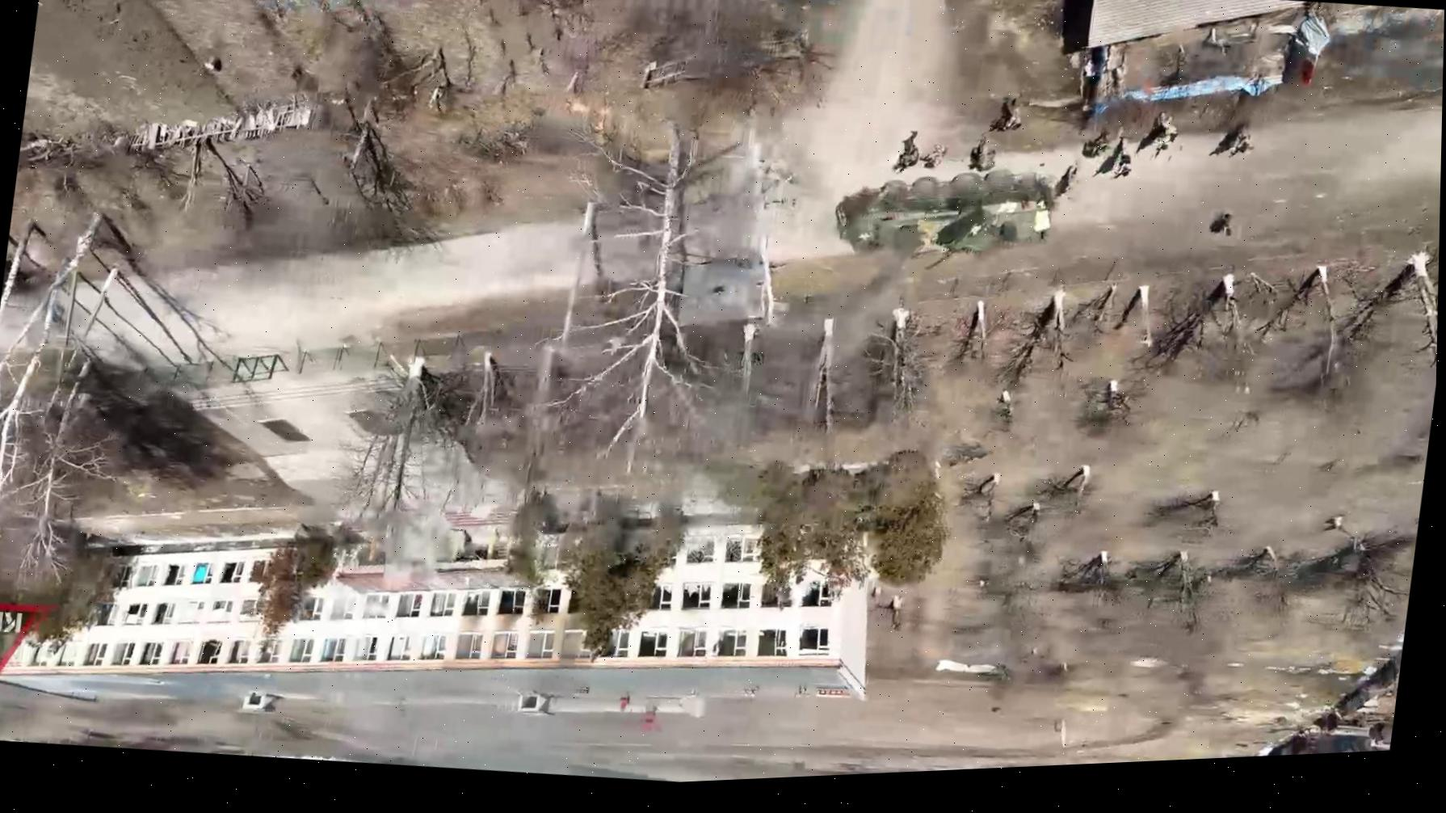person: (1150, 109, 1181, 161), (963, 128, 1001, 170), (892, 129, 922, 175), (996, 89, 1025, 135), (1108, 135, 1135, 182), (1227, 120, 1257, 161), (1085, 122, 1115, 160), (1055, 159, 1079, 202), (917, 140, 949, 171), (1219, 212, 1234, 239)
tank: (830, 149, 1058, 288)
